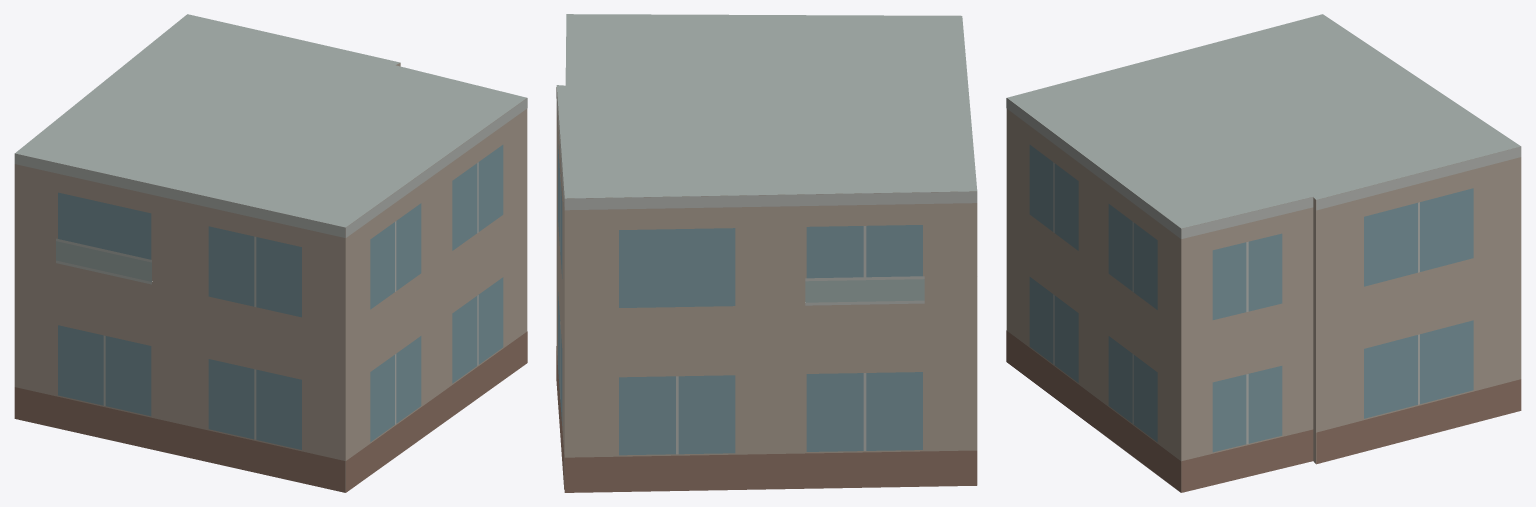
Rendered from survey-upis-32598529.glb.
The picture shows the model from 3 angles, left to right: view 1: azimuth 30°, elevation 25°; view 2: azimuth 150°, elevation 25°; view 3: azimuth 270°, elevation 25°; orthographic projection. The views are drawn at different scales.
Parts seen in each view (by area): view 1: survey-upis-32598529.tmp; view 2: survey-upis-32598529.tmp; view 3: survey-upis-32598529.tmp.
Part boxes in pixels (x1=…): survey-upis-32598529.tmp: x1=14, y1=14, x2=527, y2=492; survey-upis-32598529.tmp: x1=556, y1=14, x2=977, y2=492; survey-upis-32598529.tmp: x1=1006, y1=14, x2=1521, y2=492.
Bounding box in the file's own units: 10.63 × 6.1 × 10.78.
